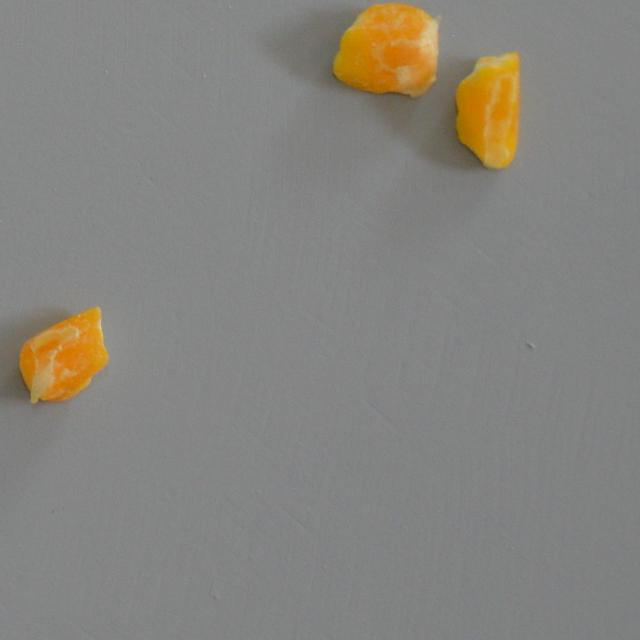pelicula: (328, 0, 440, 100), (14, 298, 110, 408), (449, 46, 534, 168)
